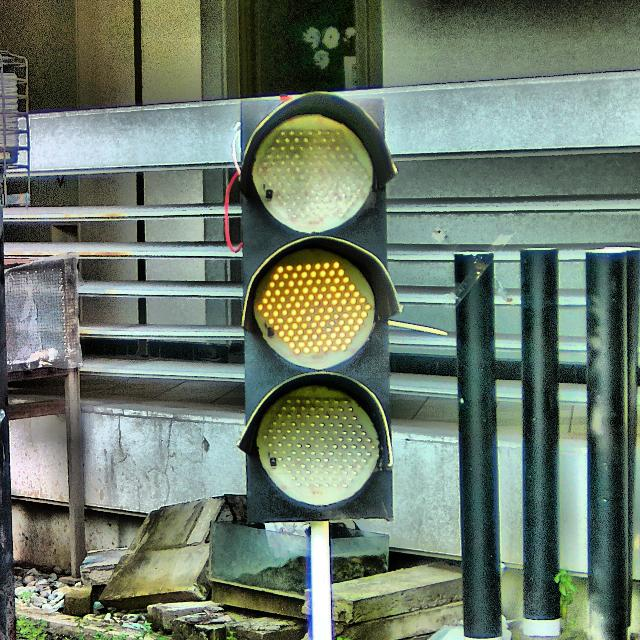yellow: (239, 98, 399, 525)
